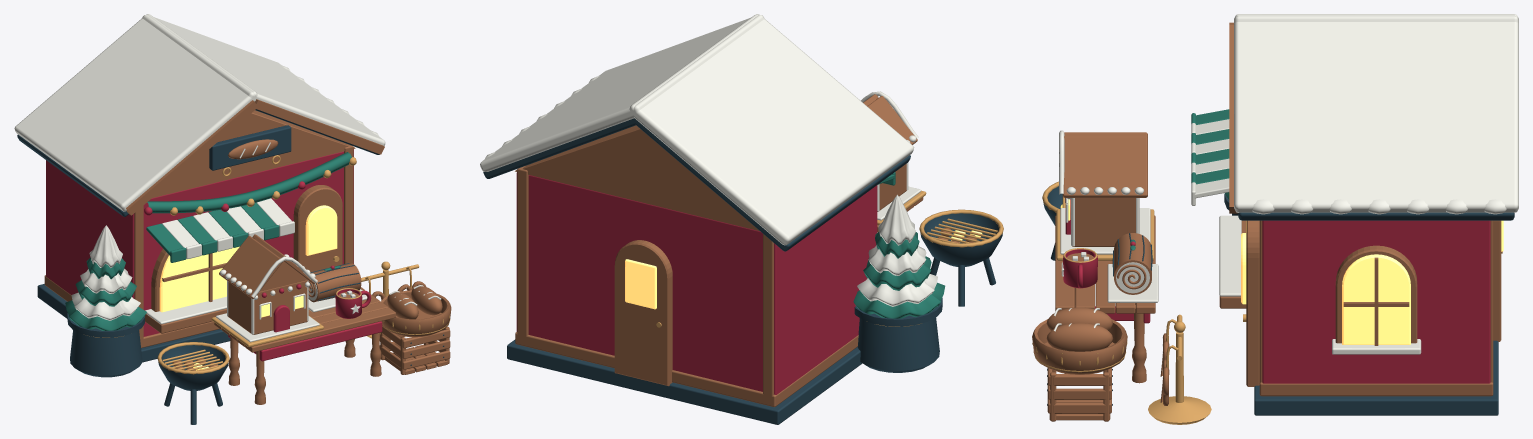
Rendered from storybook-christmas-market-bakery-christmas-counter-0bdec408__19746.glb.
3 renders of one model, left to right at view 1: azimuth 30°, elevation 25°; view 2: azimuth 150°, elevation 25°; view 3: azimuth 270°, elevation 25°, orthographic. The views are drawn at different scales.
Visible parts, largest first — view 1: 000-village-bakery/3, 000-village-bakery/2, 000-village-bakery/1, 000-village-bakery/6, 002-iced-gingerbread-house/2, 000-village-bakery/4, 000-village-bakery/0, 001-turned-leg-display-table/0, 006-fir-urn-planter/0, 006-fir-urn-planter/2, 008-winter-bread-basket/0, 007-open-pine-crate/0 (+12 smaller); view 2: 000-village-bakery/1, 000-village-bakery/3, 000-village-bakery/2, 000-village-bakery/0, 006-fir-urn-planter/0, 006-fir-urn-planter/2, 006-fir-urn-planter/3, 009-chestnut-brazier/0, 009-chestnut-brazier/1, 002-iced-gingerbread-house/2, 000-village-bakery/4, 002-iced-gingerbread-house/1; view 3: 000-village-bakery/3, 000-village-bakery/1, 000-village-bakery/2, 002-iced-gingerbread-house/2, 000-village-bakery/0, 000-village-bakery/4, 008-winter-bread-basket/0, 001-turned-leg-display-table/0, 007-open-pine-crate/0, 005-hanging-pretzel-stand/0, 002-iced-gingerbread-house/1, 000-village-bakery/6 (+5 smaller).
Boxes of the visible parts, box(x1,y1,x2,y2) form: 000-village-bakery/3: box(14, 14, 385, 324); 000-village-bakery/2: box(44, 99, 384, 348); 000-village-bakery/1: box(46, 149, 353, 336); 000-village-bakery/6: box(146, 152, 351, 262); 002-iced-gingerbread-house/2: box(219, 234, 314, 334); 000-village-bakery/4: box(159, 205, 337, 312); 000-village-bakery/0: box(17, 109, 379, 362); 001-turned-leg-display-table/0: box(214, 287, 395, 404); 006-fir-urn-planter/0: box(67, 313, 144, 377); 006-fir-urn-planter/2: box(71, 225, 140, 320); 008-winter-bread-basket/0: box(381, 286, 451, 337); 007-open-pine-crate/0: box(379, 326, 450, 374); 000-village-bakery/1: box(516, 172, 877, 394); 000-village-bakery/3: box(480, 14, 914, 245); 000-village-bakery/2: box(515, 125, 858, 406); 000-village-bakery/0: box(483, 118, 910, 424); 006-fir-urn-planter/0: box(854, 298, 942, 372); 006-fir-urn-planter/2: box(857, 194, 937, 306); 006-fir-urn-planter/3: box(853, 232, 945, 318); 009-chestnut-brazier/0: box(920, 213, 1002, 306); 009-chestnut-brazier/1: box(919, 209, 1003, 247); 002-iced-gingerbread-house/2: box(863, 94, 917, 211); 000-village-bakery/4: box(625, 259, 656, 309); 002-iced-gingerbread-house/1: box(861, 91, 921, 220); 000-village-bakery/3: box(1191, 14, 1518, 354); 000-village-bakery/1: box(1262, 220, 1490, 383); 000-village-bakery/2: box(1219, 22, 1501, 396); 002-iced-gingerbread-house/2: box(1063, 132, 1147, 246); 000-village-bakery/0: box(1238, 212, 1514, 415); 000-village-bakery/4: box(1241, 220, 1503, 344); 008-winter-bread-basket/0: box(1032, 307, 1127, 374); 001-turned-leg-display-table/0: box(1055, 215, 1155, 383); 007-open-pine-crate/0: box(1047, 368, 1111, 421); 005-hanging-pretzel-stand/0: box(1148, 314, 1211, 424); 002-iced-gingerbread-house/1: box(1059, 130, 1150, 254); 000-village-bakery/6: box(1191, 109, 1229, 184).
Bounding box in the file's own units: 4.47 × 3.4 × 4.58.
